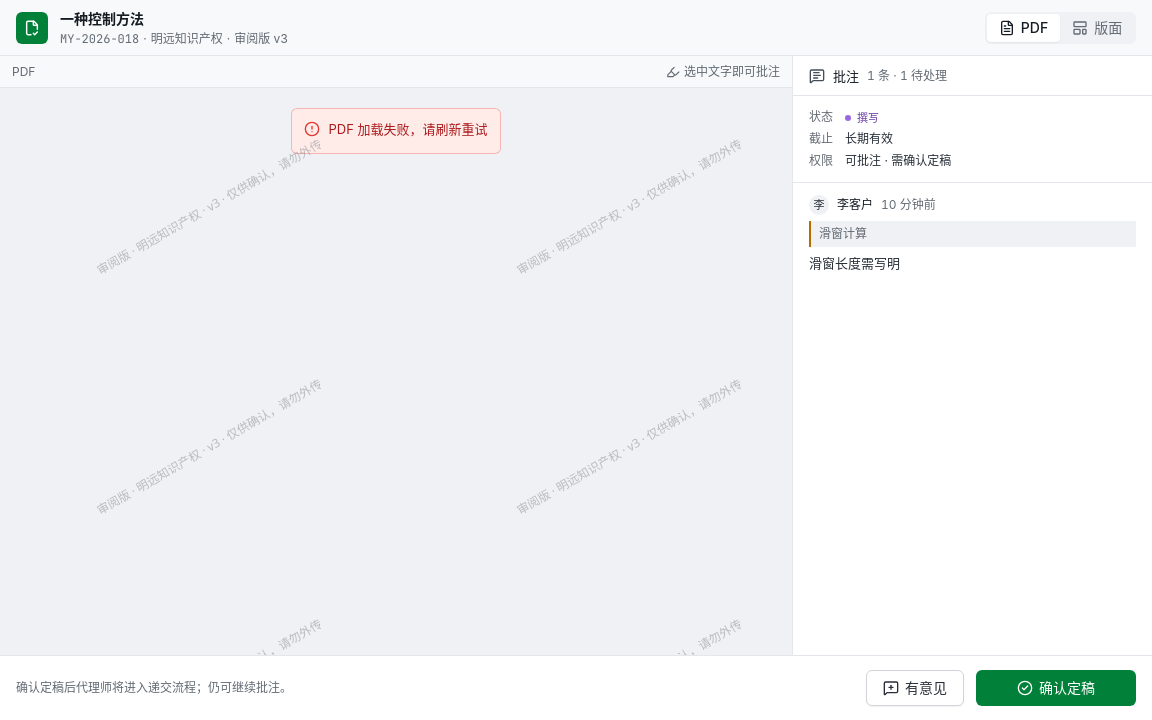
Test: ClientReviewPage `#/c/<token>`（21 §4.5） › 切「版面」：只读版面（摘要 / 权项 / 说明书），点权项块出「有意见」气泡；无编辑器
What coordinates should you click on to do the following:
click the radio button with test id "client-view-layout"
I would click on:
 (1097, 28)
Its box is [1060, 14, 1134, 42].
(page scrolled)
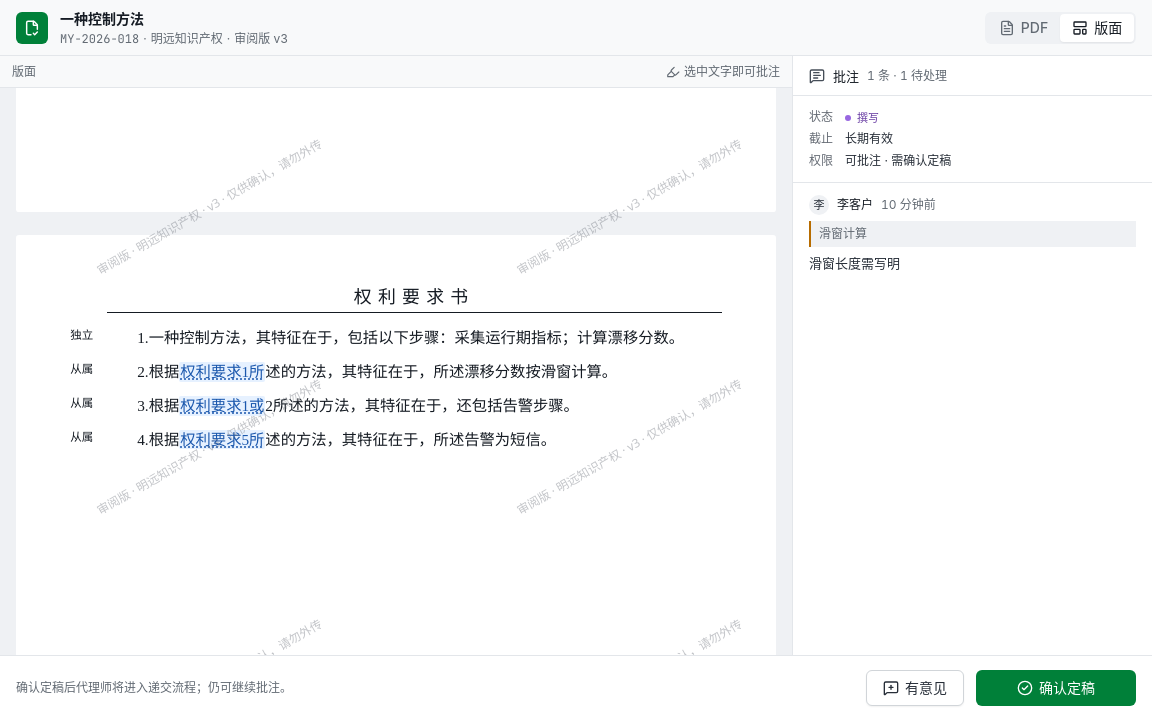
Result: the element with test id "client-layout" shows "权利要求" at [354, 287, 474, 307]
Result: the element with test id "client-layout" shows "滑窗计算" at [265, 363, 617, 380]
Result: the list item "从属 2.根据 权利要求1所 述的方法，其特征在于，所述漂移分数按滑窗计算。" is shown
What coordinates should you click on to do the following:
click the list item "从属 2.根据 权利要求1所 述的方法，其特征在于，所述漂移分数按滑窗计算。"
I would click on:
 (414, 372)
Its box is [99, 360, 729, 384].
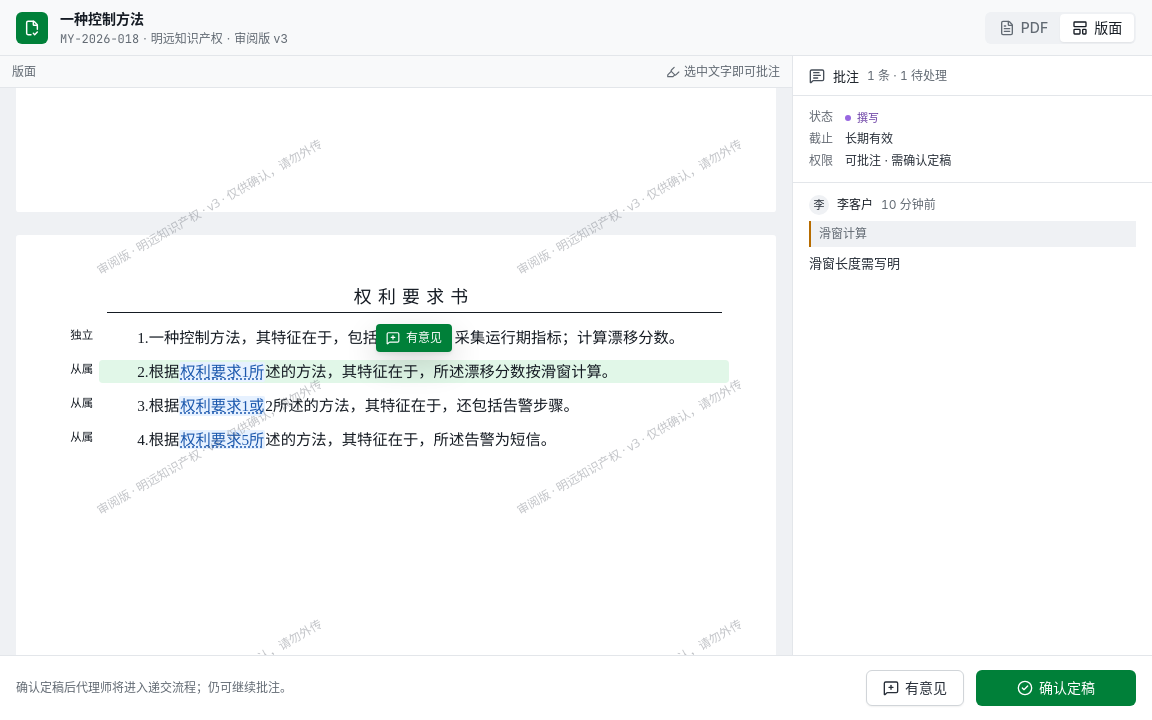
Result: the button with test id "client-selection-comment" is shown
What coordinates should you click on to do the following:
click the button with test id "client-selection-comment"
I would click on:
 (414, 338)
Its box is [376, 324, 452, 352].
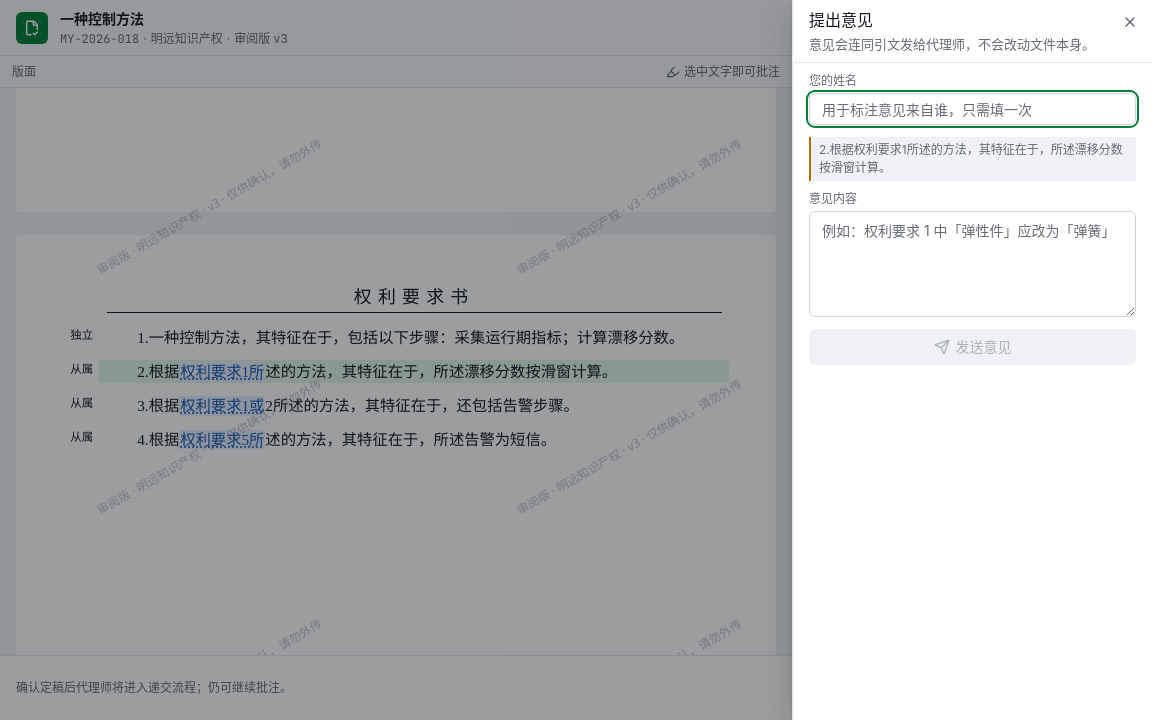
Result: the dialog with test id "client-comment-sheet" is shown at [792, 0, 1151, 719]
Result: the text with test id "client-comment-quote" shows "滑窗" at [809, 137, 1136, 181]
